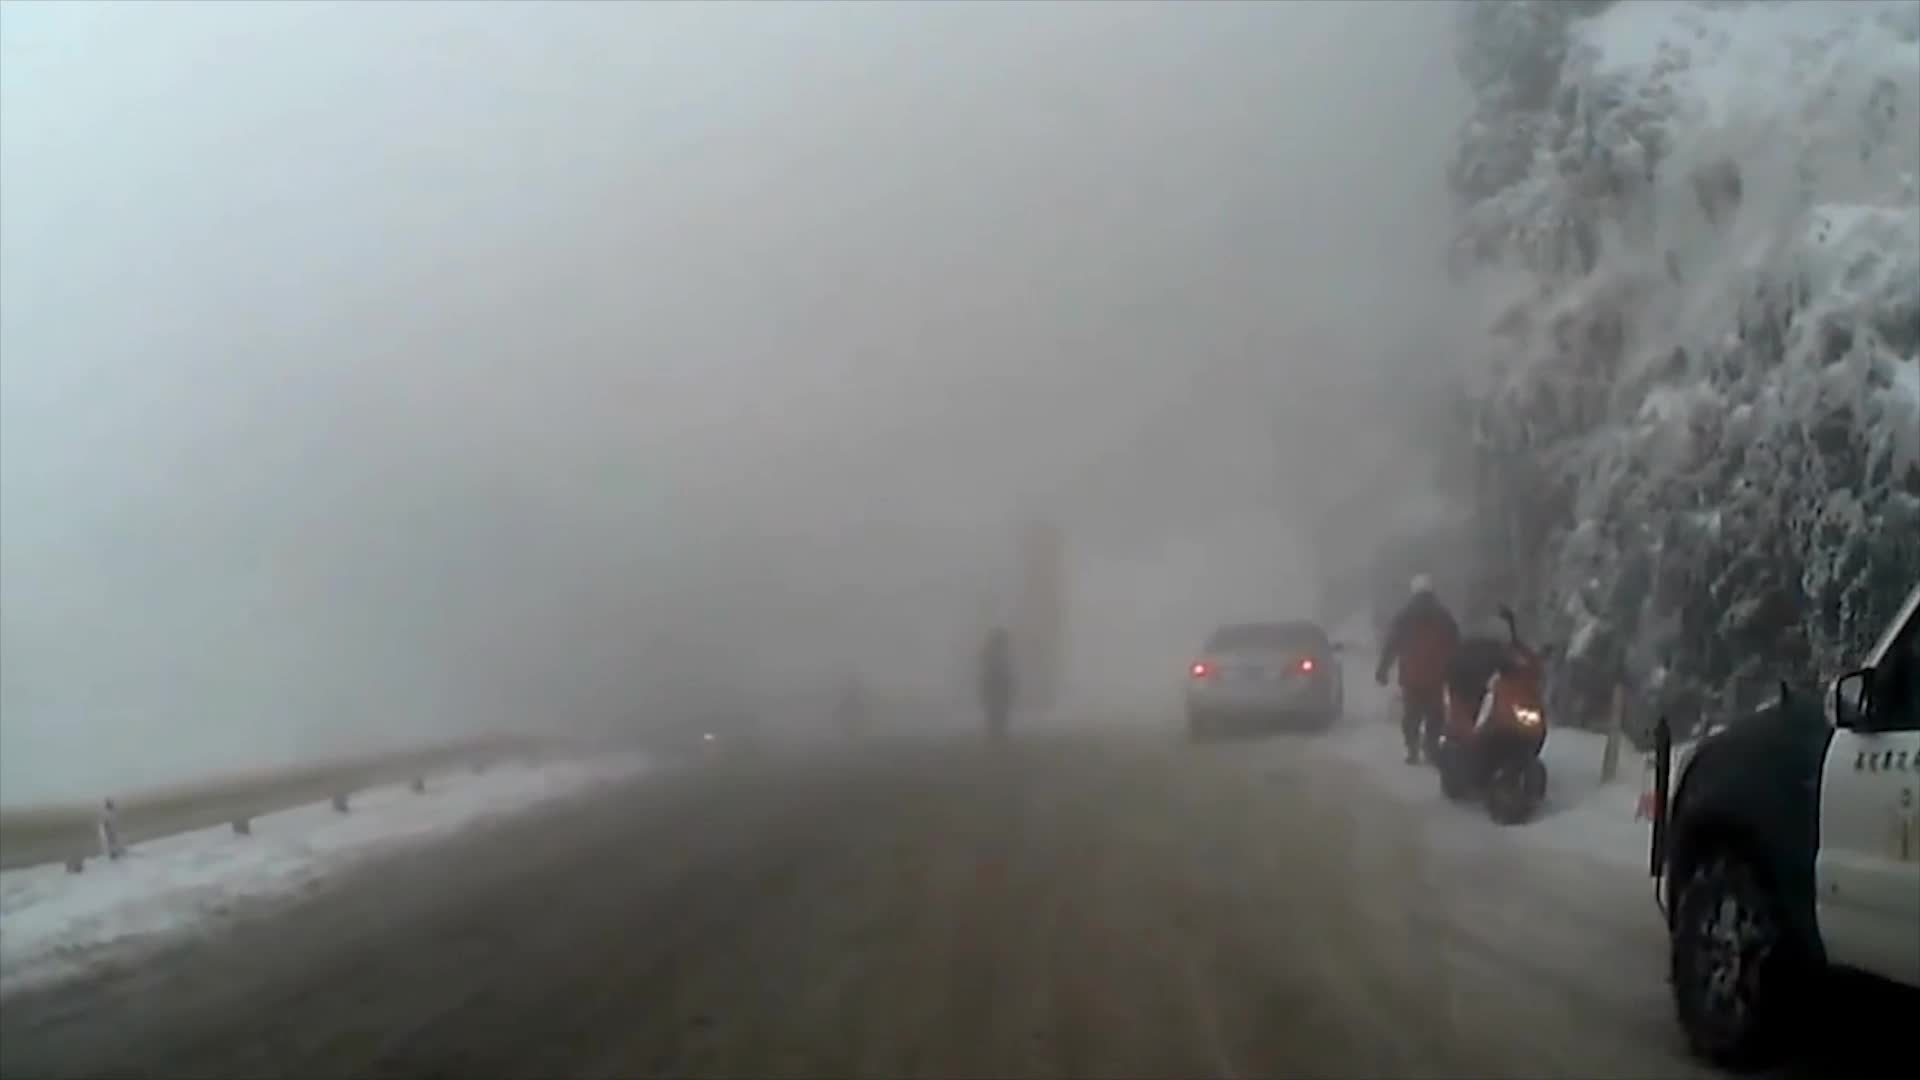pedestrian: (1376, 570, 1475, 772), (975, 634, 1013, 764)
vehicle: (1639, 546, 1917, 1080), (1179, 620, 1343, 746)
